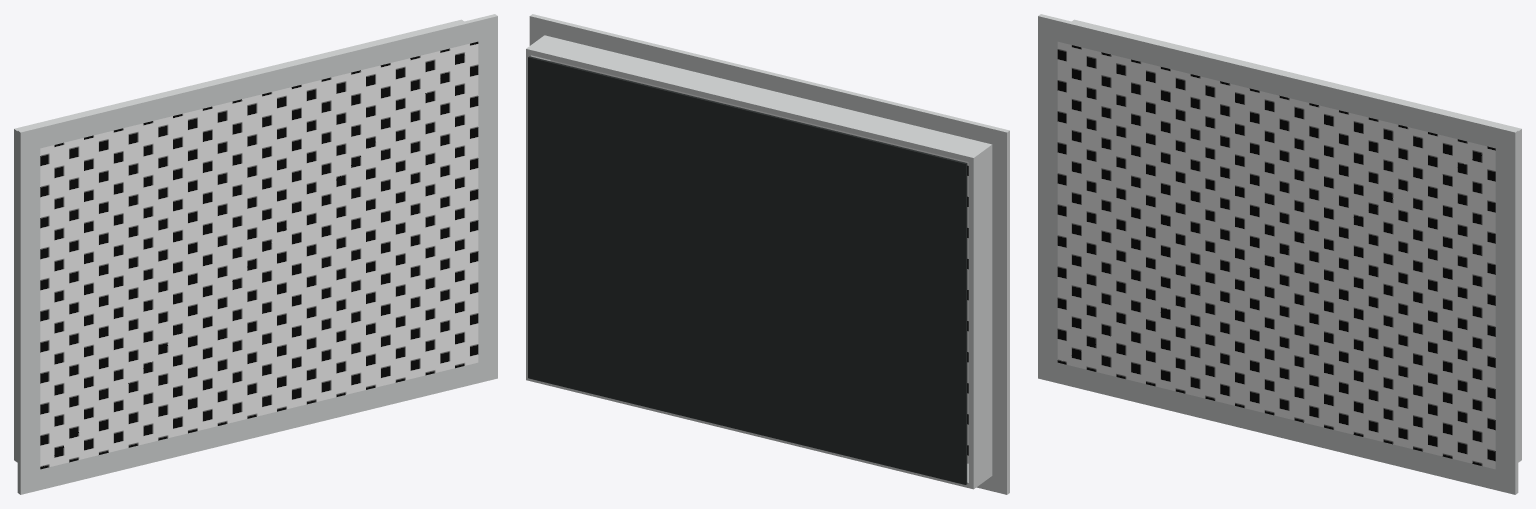
File: ecoclima-ega-one-egafq-one-1.glb
The picture shows the model from 3 angles, left to right: view 1: azimuth 30°, elevation 25°; view 2: azimuth 150°, elevation 25°; view 3: azimuth 330°, elevation 25°; orthographic projection.
Visible parts, largest first — view 1: Profile_lamiera_forata.003, Profile_cornice.117, Profile_cornice.118, Profile_cornice.119, Profile_cornice.120, Profile_ritorno.128, Profile_ritorno.130; view 2: Interno.034, Profile_ritorno.128, Profile_cornice.117, Profile_ritorno.130, Profile_cornice.119, Profile_ritorno.129, Profile_lamiera_forata.003, Profile_ritorno.131; view 3: Profile_lamiera_forata.003, Profile_cornice.117, Profile_cornice.118, Profile_cornice.120, Profile_cornice.119, Profile_ritorno.128, Profile_ritorno.131.
Part boxes in pixels (x1,y1,x2,y2): Profile_lamiera_forata.003: (40,41,478,469); Profile_cornice.117: (17,14,497,153); Profile_cornice.118: (17,358,497,494); Profile_cornice.119: (17,148,40,474); Profile_cornice.120: (478,37,497,362); Profile_ritorno.128: (14,19,463,136); Profile_ritorno.130: (14,134,17,457); Interno.034: (528,56,967,484); Profile_ritorno.128: (526,35,992,163); Profile_cornice.117: (529,14,1009,152); Profile_ritorno.130: (968,150,992,484); Profile_cornice.119: (992,149,1009,473); Profile_ritorno.129: (526,375,992,489); Profile_lamiera_forata.003: (550,60,968,463); Profile_ritorno.131: (526,54,549,375); Profile_lamiera_forata.003: (1057,41,1495,469); Profile_cornice.117: (1038,14,1518,153); Profile_cornice.118: (1038,358,1518,494); Profile_cornice.120: (1495,148,1518,474); Profile_cornice.119: (1038,37,1057,362); Profile_ritorno.128: (1072,19,1521,136); Profile_ritorno.131: (1518,134,1521,457).
Size of the model in its own units: 0.193 by 0.14 by 0.017.
Materials: 3 (1 with a texture image).
